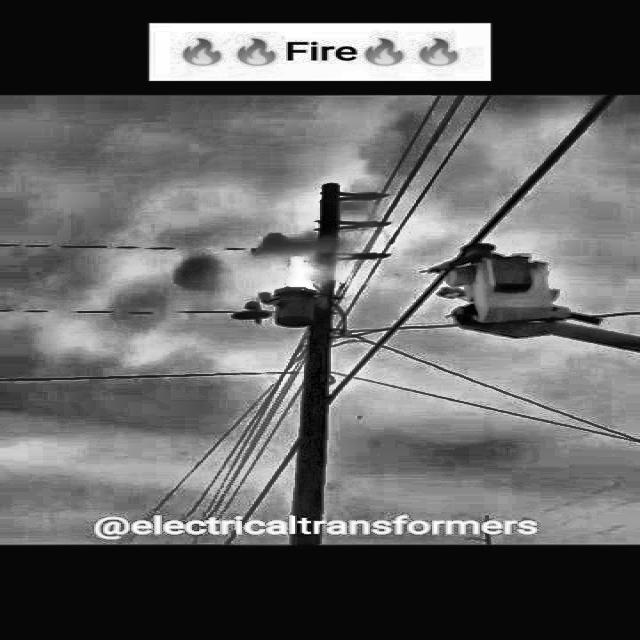Fire: (260, 251, 330, 307)
